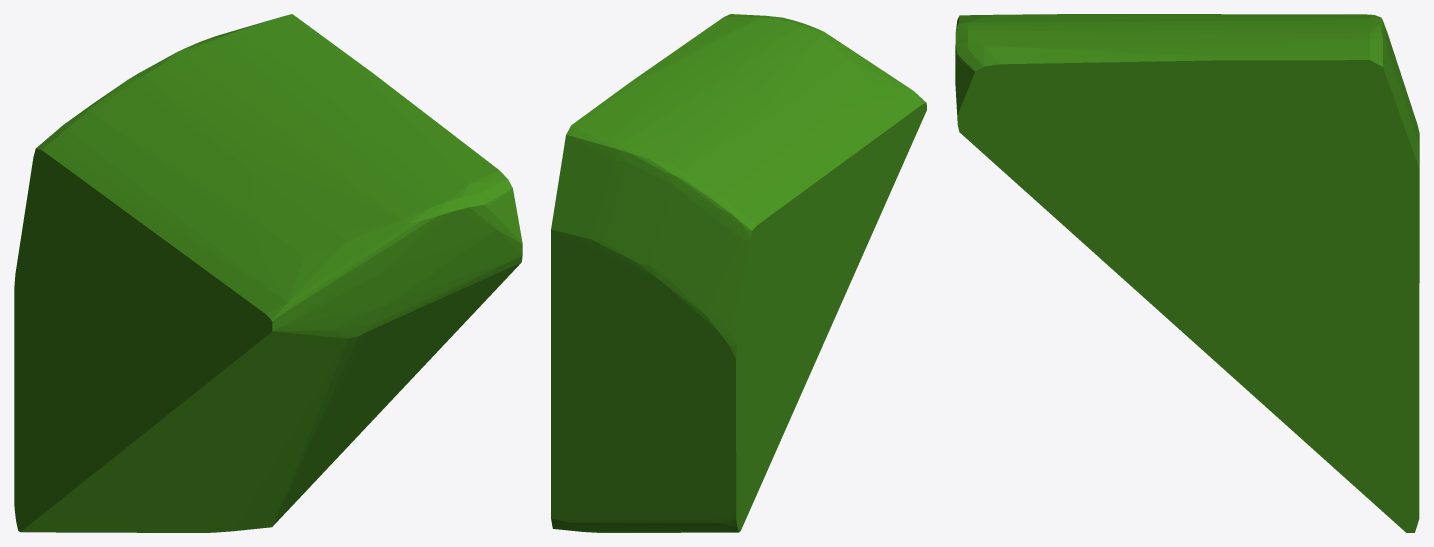
Rendered from right-shoulder-pitch-0_part_30.obj.
The picture shows the model from 3 angles, left to right: view 1: azimuth 30°, elevation 25°; view 2: azimuth 150°, elevation 25°; view 3: azimuth 270°, elevation 25°; orthographic projection. The views are drawn at different scales.
Bounding box in the file's own units: 0.0199 × 0.04 × 0.0356.
